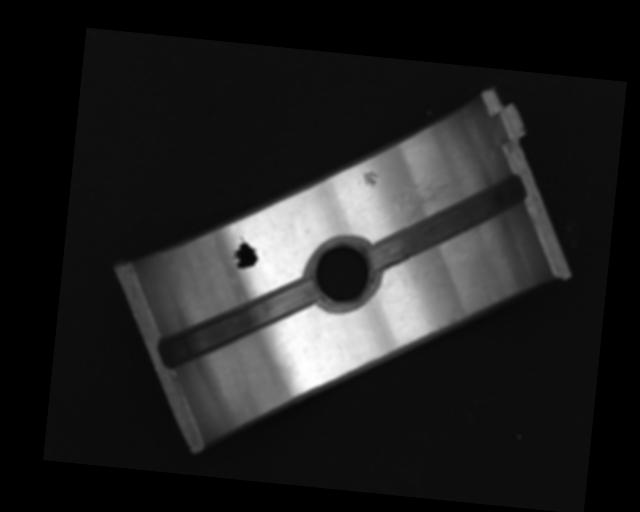blot: (230, 235, 261, 272)
bruise: (357, 169, 379, 188)
gap: (370, 162, 527, 285), (159, 264, 313, 380)
hole: (306, 237, 380, 311)
scratch: (394, 168, 469, 232)
